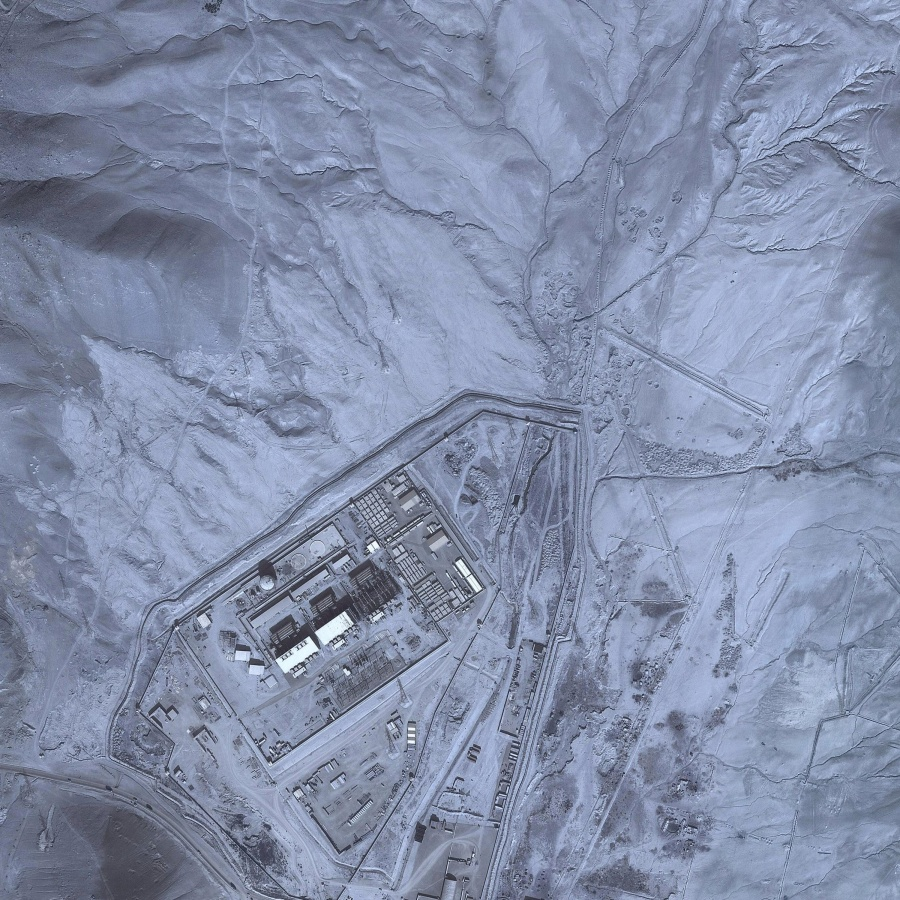PowerPlant: (232, 493, 482, 677)
